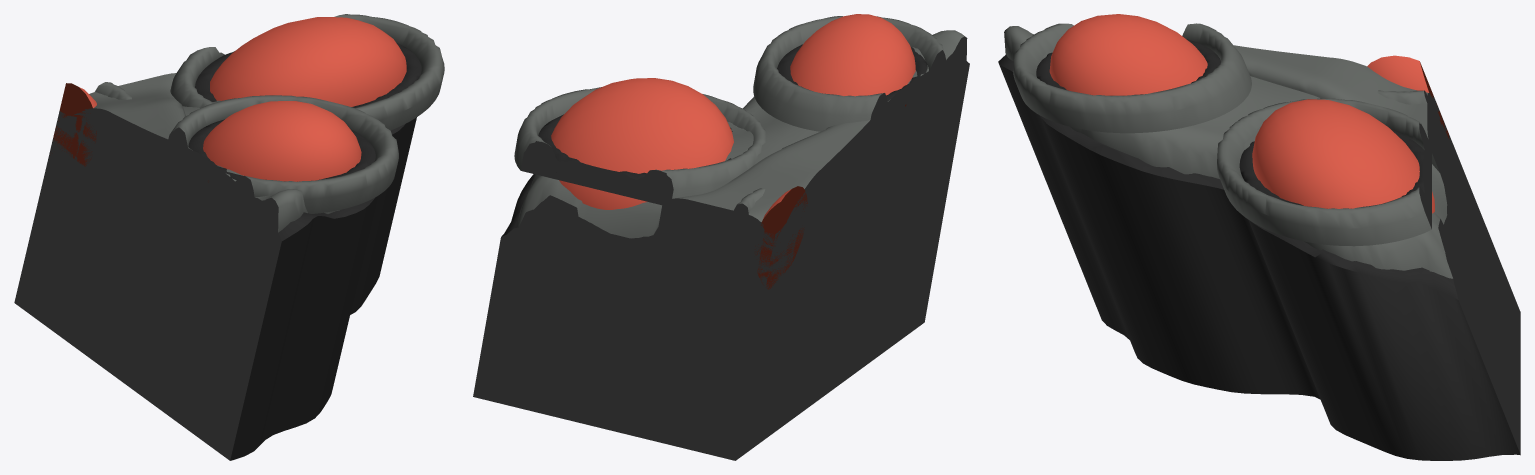
The model's file is dread_shoulder_l_117.glb.
The picture shows the model from 3 angles, left to right: view 1: azimuth 30°, elevation 25°; view 2: azimuth 150°, elevation 25°; view 3: azimuth 270°, elevation 25°; orthographic projection. The views are drawn at different scales.
Parts seen in each view (by area): view 1: dread_shoulder_l_117; view 2: dread_shoulder_l_117; view 3: dread_shoulder_l_117.
Boxes of the visible parts, x1,y1,x2,y2 form: dread_shoulder_l_117: (14, 14, 444, 460); dread_shoulder_l_117: (473, 14, 969, 460); dread_shoulder_l_117: (998, 14, 1520, 460).
Size of the model in its own units: 20.85 by 20.28 by 29.73.
